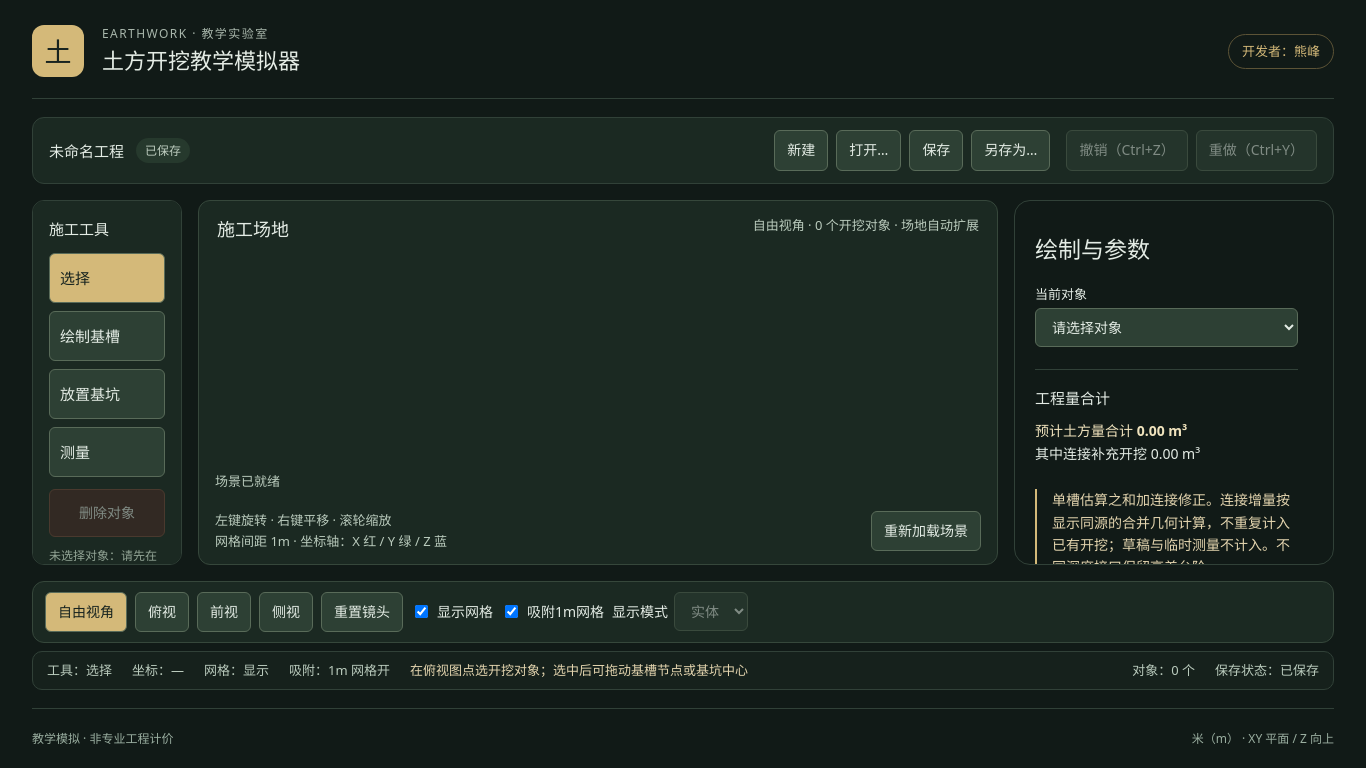
M5 俯视绘制与放置 › 仅一个节点时 Enter 提示至少两个节点，Esc 取消不改变项目
Click the button "绘制基槽": x=107, y=336 x1=49 y1=311 x2=165 y2=361
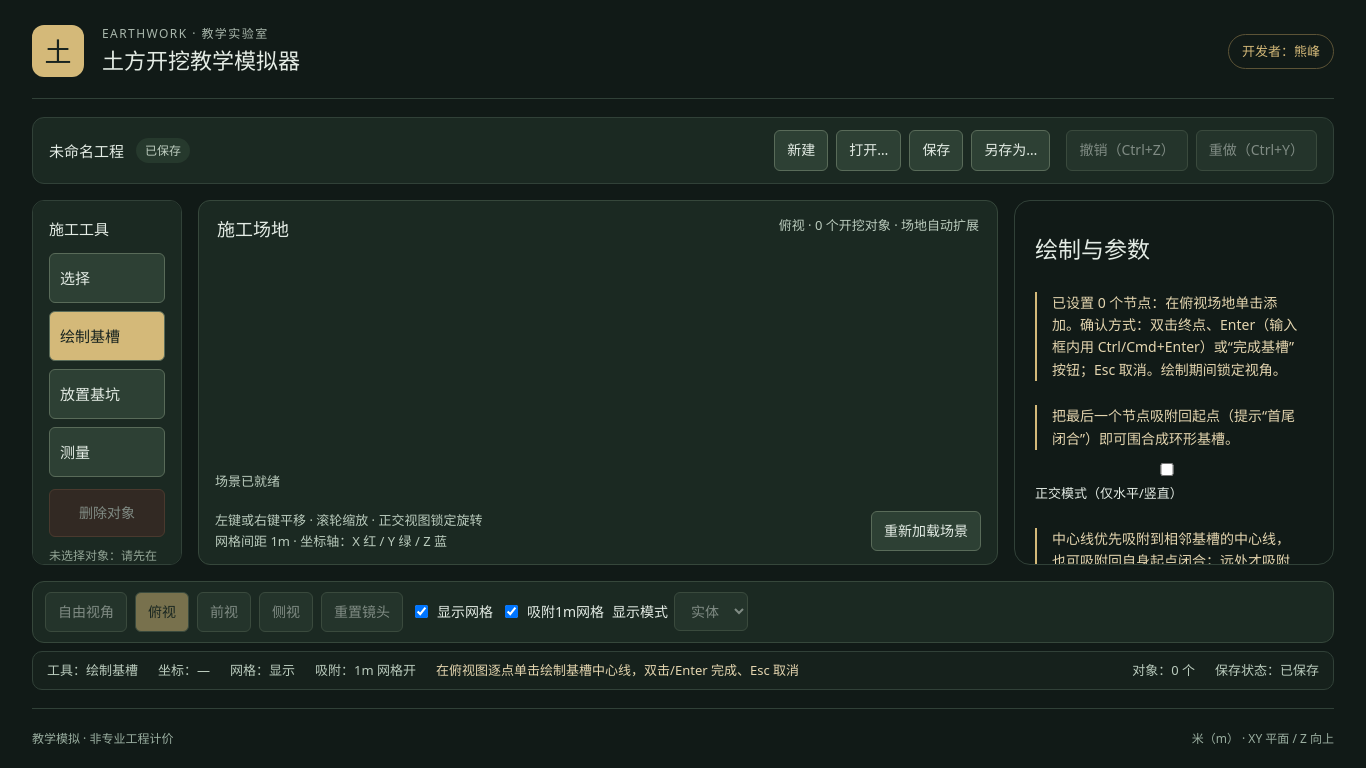
Click the picture named "三维施工场地": x=598, y=361 x1=199 y1=258 x2=997 y2=465
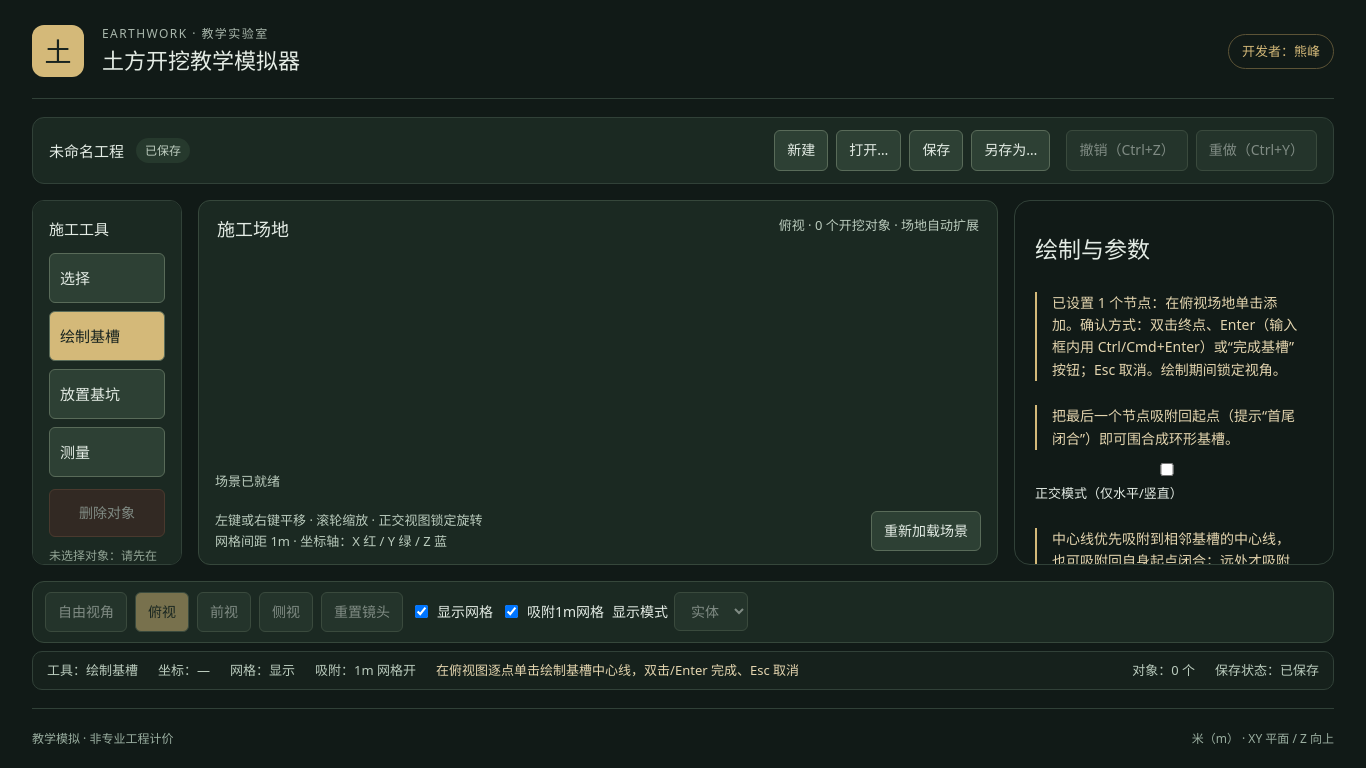
Press Enter
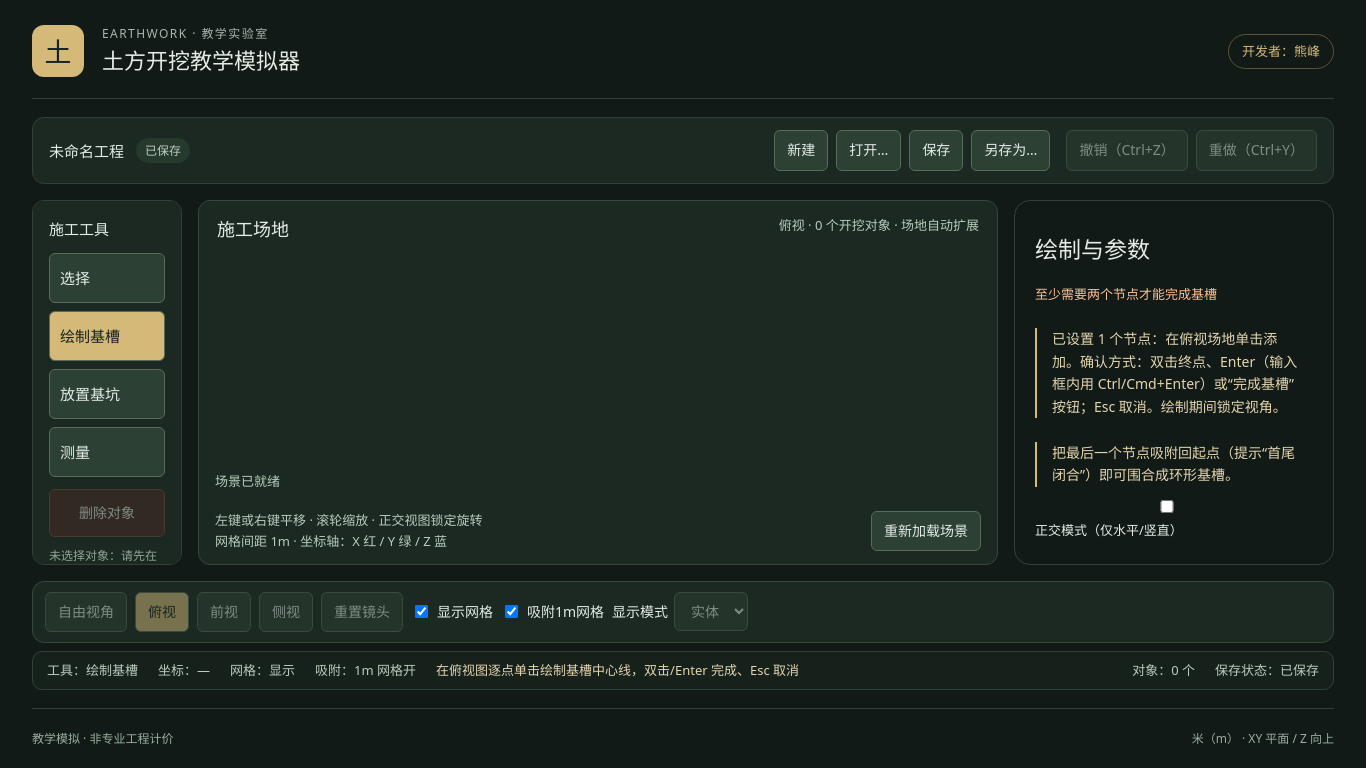
Now the message "至少需要两个节点才能完成基槽" is shown, box x1=1035 y1=285 x2=1217 y2=303
Press Escape
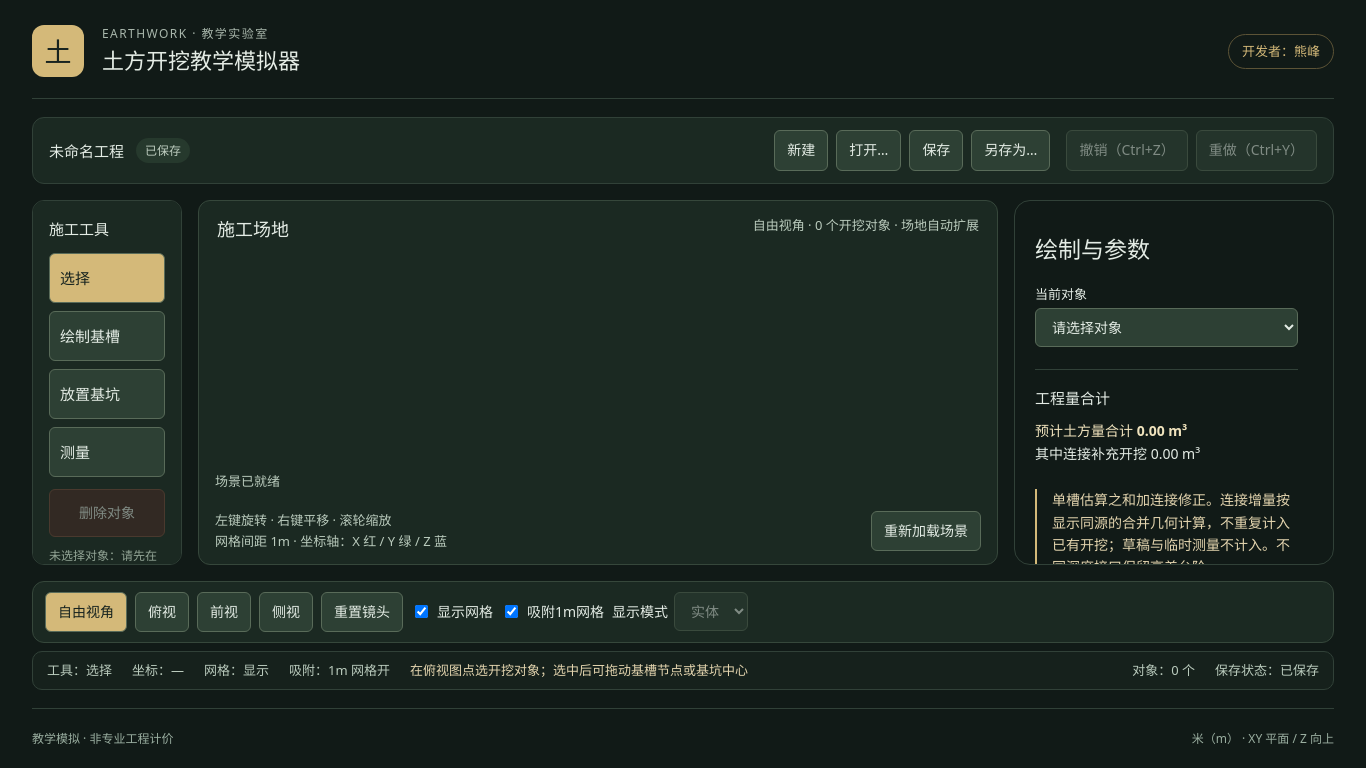
Expected: the text "自由视角 · 0 个开挖对象 · 场地自动扩展" is shown, x1=753 y1=215 x2=979 y2=244
Now the text "已设置" is gone
